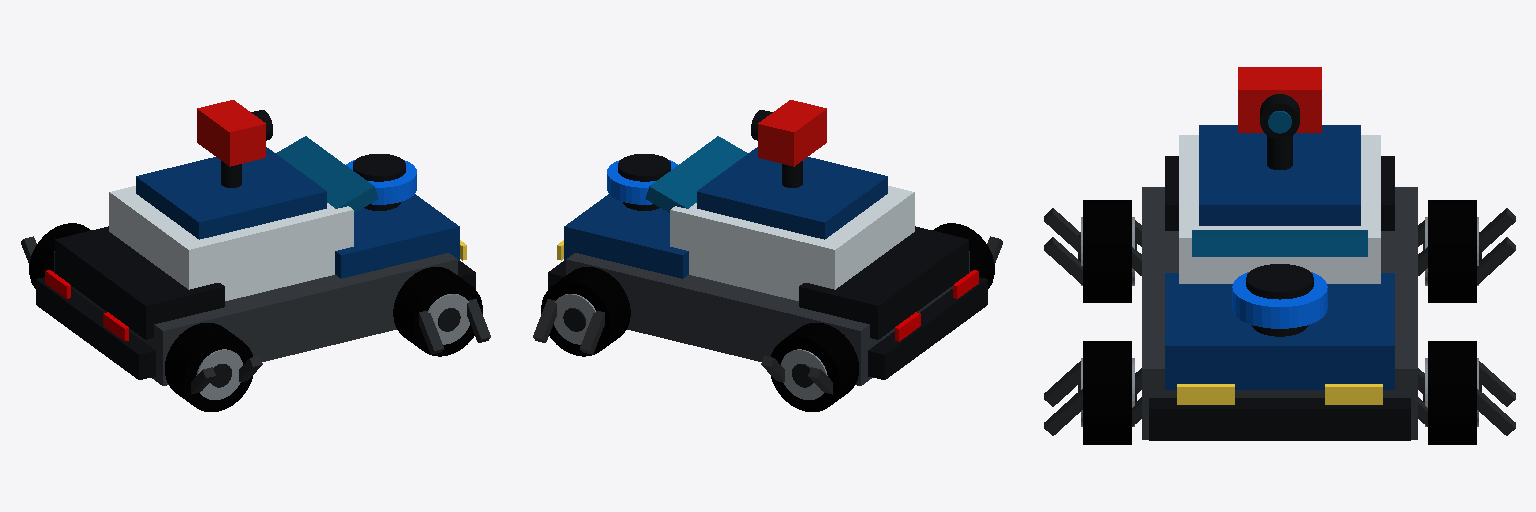
The robot description file, URDF, robot "mecanum_robot":
<?xml version='1.0' encoding='utf-8'?>
<robot name="mecanum_robot" xmlns:ignition="http://ignitionrobotics.org/schema">
  <material name="body_blue">
    <color rgba="0.05 0.24 0.45 1.0" />
  </material>
  <material name="body_dark">
    <color rgba="0.08 0.09 0.10 1.0" />
  </material>
  <material name="body_graphite">
    <color rgba="0.23 0.25 0.27 1.0" />
  </material>
  <material name="roof_light">
    <color rgba="0.86 0.90 0.92 1.0" />
  </material>
  <material name="glass_blue">
    <color rgba="0.05 0.36 0.52 1.0" />
  </material>
  <material name="accent_orange">
    <color rgba="1.0 0.48 0.05 1.0" />
  </material>
  <material name="headlight">
    <color rgba="1.0 0.86 0.28 1.0" />
  </material>
  <material name="tail_light">
    <color rgba="0.9 0.02 0.02 1.0" />
  </material>
  <material name="wheel_black">
    <color rgba="0.02 0.02 0.02 1.0" />
  </material>
  <material name="wheel_rim">
    <color rgba="0.55 0.58 0.60 1.0" />
  </material>
  <material name="wheel_hub">
    <color rgba="0.12 0.13 0.14 1.0" />
  </material>
  <material name="wheel_roller">
    <color rgba="0.18 0.19 0.20 1.0" />
  </material>
  <material name="lidar_blue">
    <color rgba="0.05 0.45 0.95 1.0" />
  </material>
  <material name="camera_red">
    <color rgba="0.82 0.08 0.06 1.0" />
  </material>
  <link name="base_footprint" />
  <joint name="base_joint" type="fixed">
    <parent link="base_footprint" />
    <child link="base_link" />
    <origin xyz="0 0 0.0323371" rpy="0 0 0" />
  </joint>
  <link name="base_link">
    <visual>
      <origin xyz="0 0 -0.00808427" rpy="0 0 0" />
      <geometry>
        <box size="0.17535744 0.11237406 0.03153131" />
      </geometry>
      <material name="body_graphite" />
    </visual>
    <visual>
      <origin xyz="0.05892802 0 0.01132062" rpy="0 0 0" />
      <geometry>
        <box size="0.07056568 0.09377495 0.0194049" />
      </geometry>
      <material name="body_blue" />
    </visual>
    <visual>
      <origin xyz="-0.01455698 0 0.02343383" rpy="0 0 0" />
      <geometry>
        <box size="0.09822658 0.08166174 0.03718502" />
      </geometry>
      <material name="roof_light" />
    </visual>
    <visual>
      <origin xyz="-0.01455698 0 0.04607509" rpy="0 0 0" />
      <geometry>
        <box size="0.07639112 0.06547998 0.01132062" />
      </geometry>
      <material name="body_blue" />
    </visual>
    <visual>
      <origin xyz="0.03273339 0 0.03960238" rpy="0 -0.32 0" />
      <geometry>
        <box size="0.03928535 0.0711469 0.00808427" />
      </geometry>
      <material name="glass_blue" />
    </visual>
    <visual>
      <origin xyz="-0.06912584 0 0.00969585" rpy="0 0 0" />
      <geometry>
        <box size="0.04729037 0.09377495 0.0194049" />
      </geometry>
      <material name="body_dark" />
    </visual>
    <visual>
      <origin xyz="0.09532047 0 -0.01132062" rpy="0 0 0" />
      <geometry>
        <box size="0.0101846 0.10670715 0.01455698" />
      </geometry>
      <material name="body_dark" />
    </visual>
    <visual>
      <origin xyz="-0.09532047 0 -0.01132062" rpy="0 0 0" />
      <geometry>
        <box size="0.0101846 0.10670715 0.01455698" />
      </geometry>
      <material name="body_dark" />
    </visual>
    <visual>
      <origin xyz="0.10040617 0.02991974 0.00243057" rpy="0 0 0" />
      <geometry>
        <box size="0.00290611 0.02343383 0.00808427" />
      </geometry>
      <material name="headlight" />
    </visual>
    <visual>
      <origin xyz="0.10040617 -0.02991974 0.00243057" rpy="0 0 0" />
      <geometry>
        <box size="0.00290611 0.02343383 0.00808427" />
      </geometry>
      <material name="headlight" />
    </visual>
    <visual>
      <origin xyz="-0.10040617 0.02991974 0.00243057" rpy="0 0 0" />
      <geometry>
        <box size="0.00290611 0.02183547 0.00726528" />
      </geometry>
      <material name="tail_light" />
    </visual>
    <visual>
      <origin xyz="-0.10040617 -0.02991974 0.00243057" rpy="0 0 0" />
      <geometry>
        <box size="0.00290611 0.02183547 0.00726528" />
      </geometry>
      <material name="tail_light" />
    </visual>
    <collision>
      <origin xyz="0 0 -0.00808427" rpy="0 0 0" />
      <geometry>
        <box size="0.17535744 0.11237406 0.03153131" />
      </geometry>
    </collision>
    <inertial>
      <origin xyz="0 0 0.00243057" rpy="0 0 0" />
      <mass value="15.0" />
      <inertia ixx="0.24" ixy="0" ixz="0" iyy="0.52" iyz="0" izz="0.72" />
    </inertial>
  </link>
  <joint name="lidar_joint" type="fixed">
    <parent link="base_link" />
    <child link="lidar_link" />
    <origin xyz="0.07348501 0 0.02101647" rpy="0 0 0" />
  </joint>
  <link name="lidar_link">
    <visual>
      <origin xyz="0 0 0.00323635" rpy="0 0 0" />
      <geometry>
        <cylinder radius="0.01132062" length="0.00726528" />
      </geometry>
      <material name="body_dark" />
    </visual>
    <visual>
      <origin xyz="0 0 0.01212642" rpy="0 0 0" />
      <geometry>
        <cylinder radius="0.0194049" length="0.00969585" />
      </geometry>
      <material name="lidar_blue" />
    </visual>
    <visual>
      <origin xyz="0 0 0.0194049" rpy="0 0 0" />
      <geometry>
        <cylinder radius="0.01373798" length="0.00323635" />
      </geometry>
      <material name="body_dark" />
    </visual>
    <inertial>
      <origin xyz="0 0 0.01132062" rpy="0 0 0" />
      <mass value="0.20" />
      <inertia ixx="0.00012" ixy="0" ixz="0" iyy="0.00012" iyz="0" izz="0.00020" />
    </inertial>
  </link>
  <gazebo reference="lidar_link">
    <sensor name="lidar_sensor" type="gpu_lidar">
      <pose>0 0 0.01616855 0 0 0</pose>
      <topic>/scan_raw</topic>
      <update_rate>5</update_rate>
      <lidar>
        <scan>
          <horizontal>
            <samples>720</samples>
            <resolution>1</resolution>
            <min_angle>-3.141592653589793</min_angle>
            <max_angle>3.141592653589793</max_angle>
          </horizontal>
        </scan>
        <range>
          <min>0.08</min>
          <max>6.0</max>
          <resolution>0.01</resolution>
        </range>
        <noise>
          <type>gaussian</type>
          <mean>0.0</mean>
          <stddev>0.005</stddev>
        </noise>
      </lidar>
      <always_on>1</always_on>
      <visualize>false</visualize>
    </sensor>
  </gazebo>
  <joint name="camera_mast_joint" type="fixed">
    <parent link="base_link" />
    <child link="camera_mast_link" />
    <origin xyz="-0.01455698 0 0.05085696" rpy="0 0 0" />
  </joint>
  <link name="camera_mast_link">
    <visual>
      <origin xyz="0 0 0" rpy="0 0 0" />
      <geometry>
        <cylinder radius="0.00528384" length="0.0396288" />
      </geometry>
      <material name="body_dark" />
    </visual>
    <collision>
      <origin xyz="0 0 0" rpy="0 0 0" />
      <geometry>
        <cylinder radius="0.00528384" length="0.0396288" />
      </geometry>
    </collision>
    <inertial>
      <origin xyz="0 0 0" rpy="0 0 0" />
      <mass value="0.03" />
      <inertia ixx="0.00004" ixy="0" ixz="0" iyy="0.00004" iyz="0" izz="0.000001" />
    </inertial>
  </link>
  <joint name="camera_joint" type="fixed">
    <parent link="base_link" />
    <child link="camera_link" />
    <origin xyz="-0.01455698 0 0.08057856" rpy="0 0 0" />
  </joint>
  <link name="camera_link">
    <visual>
      <origin xyz="0 0 0" rpy="0 0 0" />
      <geometry>
        <box size="0.02183547 0.03394867 0.0194049" />
      </geometry>
      <material name="camera_red" />
    </visual>
    <visual>
      <origin xyz="0.01536277 0 0" rpy="0 1.5708 0" />
      <geometry>
        <cylinder radius="0.00808427" length="0.00969585" />
      </geometry>
      <material name="body_dark" />
    </visual>
    <visual>
      <origin xyz="0.02021069 0 0" rpy="0 1.5708 0" />
      <geometry>
        <cylinder radius="0.00484792" length="0.00243057" />
      </geometry>
      <material name="glass_blue" />
    </visual>
    <inertial>
      <origin xyz="0 0 0" rpy="0 0 0" />
      <mass value="0.15" />
      <inertia ixx="0.00010" ixy="0" ixz="0" iyy="0.00004" iyz="0" izz="0.00010" />
    </inertial>
  </link>
  <gazebo reference="camera_link">
    <sensor name="front_camera" type="camera">
      <pose>0.02505861 0 0 0 0 0</pose>
      <topic>/camera</topic>
      <update_rate>15</update_rate>
      <camera>
        <horizontal_fov>1.047</horizontal_fov>
        <image>
          <width>640</width>
          <height>480</height>
          <format>R8G8B8</format>
        </image>
        <clip>
          <near>0.05</near>
          <far>8.0</far>
        </clip>
      </camera>
      <always_on>1</always_on>
      <visualize>false</visualize>
    </sensor>
  </gazebo>
  <joint name="front_left_wheel_joint" type="continuous">
    <parent link="base_link" />
    <child link="front_left_wheel_link" />
    <origin xyz="0.068 0.070 -0.012" rpy="-1.5708 0 0" />
    <axis xyz="0 0 1" />
    <limit effort="12.0" velocity="60.0" />
    <dynamics damping="0.02" friction="0.0" />
  </joint>
  <link name="front_left_wheel_link">
    <visual>
      <origin xyz="0 0 0" rpy="0 0 0" />
      <geometry>
        <cylinder radius="0.021" length="0.020" />
      </geometry>
      <material name="wheel_black" />
    </visual>
    <visual>
      <origin xyz="0 0 0" rpy="0 0 0" />
      <geometry>
        <cylinder radius="0.014" length="0.022" />
      </geometry>
      <material name="wheel_rim" />
    </visual>
    <visual>
      <origin xyz="0 0 0" rpy="0 0 0" />
      <geometry>
        <cylinder radius="0.0065" length="0.024" />
      </geometry>
      <material name="wheel_hub" />
    </visual>
    <visual>
      <origin xyz="0.014 0 0.014" rpy="0.7854 0 0" />
      <geometry><box size="0.006 0.028 0.005" /></geometry>
      <material name="wheel_roller" />
    </visual>
    <visual>
      <origin xyz="-0.014 0 0.014" rpy="0.7854 0 0" />
      <geometry><box size="0.006 0.028 0.005" /></geometry>
      <material name="wheel_roller" />
    </visual>
    <visual>
      <origin xyz="0.014 0 -0.014" rpy="0.7854 0 0" />
      <geometry><box size="0.006 0.028 0.005" /></geometry>
      <material name="wheel_roller" />
    </visual>
    <visual>
      <origin xyz="-0.014 0 -0.014" rpy="0.7854 0 0" />
      <geometry><box size="0.006 0.028 0.005" /></geometry>
      <material name="wheel_roller" />
    </visual>
    <collision>
      <origin xyz="0 0 0" rpy="0 0 0" />
      <geometry>
        <sphere radius="0.021" />
      </geometry>
    </collision>
    <inertial>
      <origin xyz="0 0 0" rpy="0 0 0" />
      <mass value="0.45" />
      <inertia ixx="0.00055" ixy="0" ixz="0" iyy="0.00090" iyz="0" izz="0.00055" />
    </inertial>
  </link>
  <joint name="front_right_wheel_joint" type="continuous">
    <parent link="base_link" />
    <child link="front_right_wheel_link" />
    <origin xyz="0.068 -0.070 -0.012" rpy="-1.5708 0 0" />
    <axis xyz="0 0 1" />
    <limit effort="12.0" velocity="60.0" />
    <dynamics damping="0.02" friction="0.0" />
  </joint>
  <link name="front_right_wheel_link">
    <visual>
      <origin xyz="0 0 0" rpy="0 0 0" />
      <geometry>
        <cylinder radius="0.021" length="0.020" />
      </geometry>
      <material name="wheel_black" />
    </visual>
    <visual>
      <origin xyz="0 0 0" rpy="0 0 0" />
      <geometry>
        <cylinder radius="0.014" length="0.022" />
      </geometry>
      <material name="wheel_rim" />
    </visual>
    <visual>
      <origin xyz="0 0 0" rpy="0 0 0" />
      <geometry>
        <cylinder radius="0.0065" length="0.024" />
      </geometry>
      <material name="wheel_hub" />
    </visual>
    <visual>
      <origin xyz="0.014 0 0.014" rpy="-0.7854 0 0" />
      <geometry><box size="0.006 0.028 0.005" /></geometry>
      <material name="wheel_roller" />
    </visual>
    <visual>
      <origin xyz="-0.014 0 0.014" rpy="-0.7854 0 0" />
      <geometry><box size="0.006 0.028 0.005" /></geometry>
      <material name="wheel_roller" />
    </visual>
    <visual>
      <origin xyz="0.014 0 -0.014" rpy="-0.7854 0 0" />
      <geometry><box size="0.006 0.028 0.005" /></geometry>
      <material name="wheel_roller" />
    </visual>
    <visual>
      <origin xyz="-0.014 0 -0.014" rpy="-0.7854 0 0" />
      <geometry><box size="0.006 0.028 0.005" /></geometry>
      <material name="wheel_roller" />
    </visual>
    <collision>
      <origin xyz="0 0 0" rpy="0 0 0" />
      <geometry>
        <sphere radius="0.021" />
      </geometry>
    </collision>
    <inertial>
      <origin xyz="0 0 0" rpy="0 0 0" />
      <mass value="0.45" />
      <inertia ixx="0.00055" ixy="0" ixz="0" iyy="0.00090" iyz="0" izz="0.00055" />
    </inertial>
  </link>
  <joint name="rear_left_wheel_joint" type="continuous">
    <parent link="base_link" />
    <child link="rear_left_wheel_link" />
    <origin xyz="-0.068 0.070 -0.012" rpy="-1.5708 0 0" />
    <axis xyz="0 0 1" />
    <limit effort="12.0" velocity="60.0" />
    <dynamics damping="0.02" friction="0.0" />
  </joint>
  <link name="rear_left_wheel_link">
    <visual>
      <origin xyz="0 0 0" rpy="0 0 0" />
      <geometry>
        <cylinder radius="0.021" length="0.020" />
      </geometry>
      <material name="wheel_black" />
    </visual>
    <visual>
      <origin xyz="0 0 0" rpy="0 0 0" />
      <geometry>
        <cylinder radius="0.014" length="0.022" />
      </geometry>
      <material name="wheel_rim" />
    </visual>
    <visual>
      <origin xyz="0 0 0" rpy="0 0 0" />
      <geometry>
        <cylinder radius="0.0065" length="0.024" />
      </geometry>
      <material name="wheel_hub" />
    </visual>
    <visual>
      <origin xyz="0.014 0 0.014" rpy="-0.7854 0 0" />
      <geometry><box size="0.006 0.028 0.005" /></geometry>
      <material name="wheel_roller" />
    </visual>
    <visual>
      <origin xyz="-0.014 0 0.014" rpy="-0.7854 0 0" />
      <geometry><box size="0.006 0.028 0.005" /></geometry>
      <material name="wheel_roller" />
    </visual>
    <visual>
      <origin xyz="0.014 0 -0.014" rpy="-0.7854 0 0" />
      <geometry><box size="0.006 0.028 0.005" /></geometry>
      <material name="wheel_roller" />
    </visual>
    <visual>
      <origin xyz="-0.014 0 -0.014" rpy="-0.7854 0 0" />
      <geometry><box size="0.006 0.028 0.005" /></geometry>
      <material name="wheel_roller" />
    </visual>
    <collision>
      <origin xyz="0 0 0" rpy="0 0 0" />
      <geometry>
        <sphere radius="0.021" />
      </geometry>
    </collision>
    <inertial>
      <origin xyz="0 0 0" rpy="0 0 0" />
      <mass value="0.45" />
      <inertia ixx="0.00055" ixy="0" ixz="0" iyy="0.00090" iyz="0" izz="0.00055" />
    </inertial>
  </link>
  <joint name="rear_right_wheel_joint" type="continuous">
    <parent link="base_link" />
    <child link="rear_right_wheel_link" />
    <origin xyz="-0.068 -0.070 -0.012" rpy="-1.5708 0 0" />
    <axis xyz="0 0 1" />
    <limit effort="12.0" velocity="60.0" />
    <dynamics damping="0.02" friction="0.0" />
  </joint>
  <link name="rear_right_wheel_link">
    <visual>
      <origin xyz="0 0 0" rpy="0 0 0" />
      <geometry>
        <cylinder radius="0.021" length="0.020" />
      </geometry>
      <material name="wheel_black" />
    </visual>
    <visual>
      <origin xyz="0 0 0" rpy="0 0 0" />
      <geometry>
        <cylinder radius="0.014" length="0.022" />
      </geometry>
      <material name="wheel_rim" />
    </visual>
    <visual>
      <origin xyz="0 0 0" rpy="0 0 0" />
      <geometry>
        <cylinder radius="0.0065" length="0.024" />
      </geometry>
      <material name="wheel_hub" />
    </visual>
    <visual>
      <origin xyz="0.014 0 0.014" rpy="0.7854 0 0" />
      <geometry><box size="0.006 0.028 0.005" /></geometry>
      <material name="wheel_roller" />
    </visual>
    <visual>
      <origin xyz="-0.014 0 0.014" rpy="0.7854 0 0" />
      <geometry><box size="0.006 0.028 0.005" /></geometry>
      <material name="wheel_roller" />
    </visual>
    <visual>
      <origin xyz="0.014 0 -0.014" rpy="0.7854 0 0" />
      <geometry><box size="0.006 0.028 0.005" /></geometry>
      <material name="wheel_roller" />
    </visual>
    <visual>
      <origin xyz="-0.014 0 -0.014" rpy="0.7854 0 0" />
      <geometry><box size="0.006 0.028 0.005" /></geometry>
      <material name="wheel_roller" />
    </visual>
    <collision>
      <origin xyz="0 0 0" rpy="0 0 0" />
      <geometry>
        <sphere radius="0.021" />
      </geometry>
    </collision>
    <inertial>
      <origin xyz="0 0 0" rpy="0 0 0" />
      <mass value="0.45" />
      <inertia ixx="0.00055" ixy="0" ixz="0" iyy="0.00090" iyz="0" izz="0.00055" />
    </inertial>
  </link>
  <gazebo reference="front_left_wheel_link">
    <collision>
      <surface>
        <friction>
          <ode>
            <mu>1.5</mu>
            <mu2>0.7</mu2>
            <fdir1 ignition:expressed_in="base_footprint">1 -1 0</fdir1>
          </ode>
        </friction>
        <contact>
          <ode>
            <kp>200000.0</kp>
            <kd>5000.0</kd>
            <min_depth>0.001</min_depth>
            <max_vel>0.1</max_vel>
          </ode>
        </contact>
      </surface>
    </collision>
  </gazebo>
  <gazebo reference="front_right_wheel_link">
    <collision>
      <surface>
        <friction>
          <ode>
            <mu>1.5</mu>
            <mu2>0.7</mu2>
            <fdir1 ignition:expressed_in="base_footprint">1 1 0</fdir1>
          </ode>
        </friction>
        <contact>
          <ode>
            <kp>200000.0</kp>
            <kd>5000.0</kd>
            <min_depth>0.001</min_depth>
            <max_vel>0.1</max_vel>
          </ode>
        </contact>
      </surface>
    </collision>
  </gazebo>
  <gazebo reference="rear_left_wheel_link">
    <collision>
      <surface>
        <friction>
          <ode>
            <mu>1.5</mu>
            <mu2>0.7</mu2>
            <fdir1 ignition:expressed_in="base_footprint">1 1 0</fdir1>
          </ode>
        </friction>
        <contact>
          <ode>
            <kp>200000.0</kp>
            <kd>5000.0</kd>
            <min_depth>0.001</min_depth>
            <max_vel>0.1</max_vel>
          </ode>
        </contact>
      </surface>
    </collision>
  </gazebo>
  <gazebo reference="rear_right_wheel_link">
    <collision>
      <surface>
        <friction>
          <ode>
            <mu>1.5</mu>
            <mu2>0.7</mu2>
            <fdir1 ignition:expressed_in="base_footprint">1 -1 0</fdir1>
          </ode>
        </friction>
        <contact>
          <ode>
            <kp>200000.0</kp>
            <kd>5000.0</kd>
            <min_depth>0.001</min_depth>
            <max_vel>0.1</max_vel>
          </ode>
        </contact>
      </surface>
    </collision>
  </gazebo>
  <gazebo>
    <plugin filename="ignition-gazebo-joint-state-publisher-system" name="ignition::gazebo::systems::JointStatePublisher">
      <topic>/joint_states</topic>
      <joint_name>front_left_wheel_joint</joint_name>
      <joint_name>front_right_wheel_joint</joint_name>
      <joint_name>rear_left_wheel_joint</joint_name>
      <joint_name>rear_right_wheel_joint</joint_name>
    </plugin>
    <plugin filename="ignition-gazebo-mecanum-drive-system" name="ignition::gazebo::systems::MecanumDrive">
      <front_left_joint>front_left_wheel_joint</front_left_joint>
      <front_right_joint>front_right_wheel_joint</front_right_joint>
      <back_left_joint>rear_left_wheel_joint</back_left_joint>
      <back_right_joint>rear_right_wheel_joint</back_right_joint>
      <wheel_separation>0.140</wheel_separation>
      <wheelbase>0.136</wheelbase>
      <wheel_radius>0.021</wheel_radius>
      <min_acceleration>-4.0</min_acceleration>
      <max_acceleration>4.0</max_acceleration>
    </plugin>
    <plugin filename="ignition-gazebo-odometry-publisher-system" name="ignition::gazebo::systems::OdometryPublisher">
      <odom_frame>odom</odom_frame>
      <robot_base_frame>base_footprint</robot_base_frame>
      <odom_topic>/odom</odom_topic>
      <odom_publish_frequency>30</odom_publish_frequency>
      <dimensions>2</dimensions>
    </plugin>
  </gazebo>
</robot>

--- What the picture shows (computed from the rendered views, not written in the file) ---
Views: 3 orthographic renders of the robot side by side, from view 1: azimuth 30°, elevation 25°; view 2: azimuth 150°, elevation 25°; view 3: azimuth 270°, elevation 25°.
Model mecanum_robot with 9 links and 8 joints (4 continuous, 4 fixed), rooted at base_footprint, posed all joints at 0.
Links seen in each view (by area): view 1: base_link, front_right_wheel_link, rear_right_wheel_link, camera_link, lidar_link, rear_left_wheel_link; view 2: base_link, front_left_wheel_link, rear_left_wheel_link, camera_link, lidar_link, rear_right_wheel_link; view 3: base_link, front_right_wheel_link, front_left_wheel_link, rear_left_wheel_link, rear_right_wheel_link, camera_link, lidar_link, camera_mast_link.
Boxes of the visible links, x1,y1,x2,y2 form: base_link: (36,136,475,385); front_right_wheel_link: (393,267,490,356); rear_right_wheel_link: (165,323,262,411); camera_link: (197,100,272,166); lidar_link: (346,154,416,210); rear_left_wheel_link: (21,223,90,288); base_link: (548,136,987,385); front_left_wheel_link: (533,267,630,356); rear_left_wheel_link: (761,323,858,411); camera_link: (751,100,826,166); lidar_link: (607,154,677,210); rear_right_wheel_link: (933,223,1002,288); base_link: (1142,125,1417,440); front_right_wheel_link: (1044,341,1141,444); front_left_wheel_link: (1418,341,1515,444); rear_left_wheel_link: (1418,200,1515,302); rear_right_wheel_link: (1044,200,1141,302); camera_link: (1238,67,1321,138); lidar_link: (1232,264,1327,336); camera_mast_link: (1267,135,1292,169).
Size in the robot's own frame: 0.2037 by 0.1913 by 0.1233 metres.
Geometry: primitives only (box / cylinder / sphere), no mesh files.
